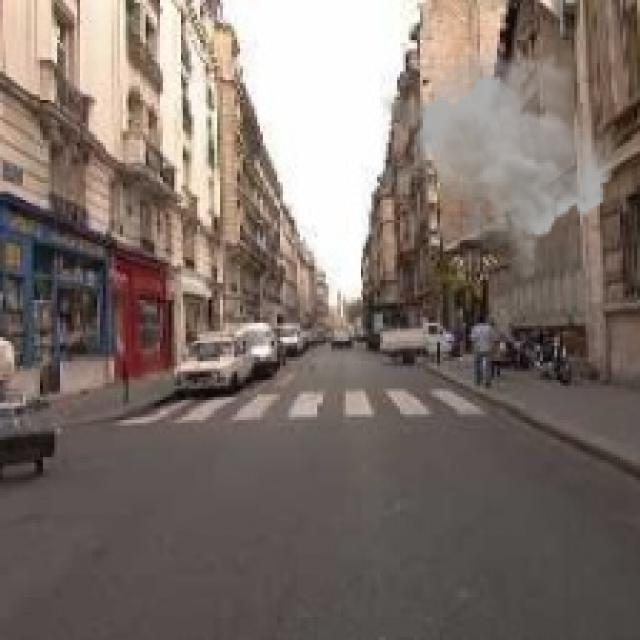Smoke: (380, 43, 617, 283)
